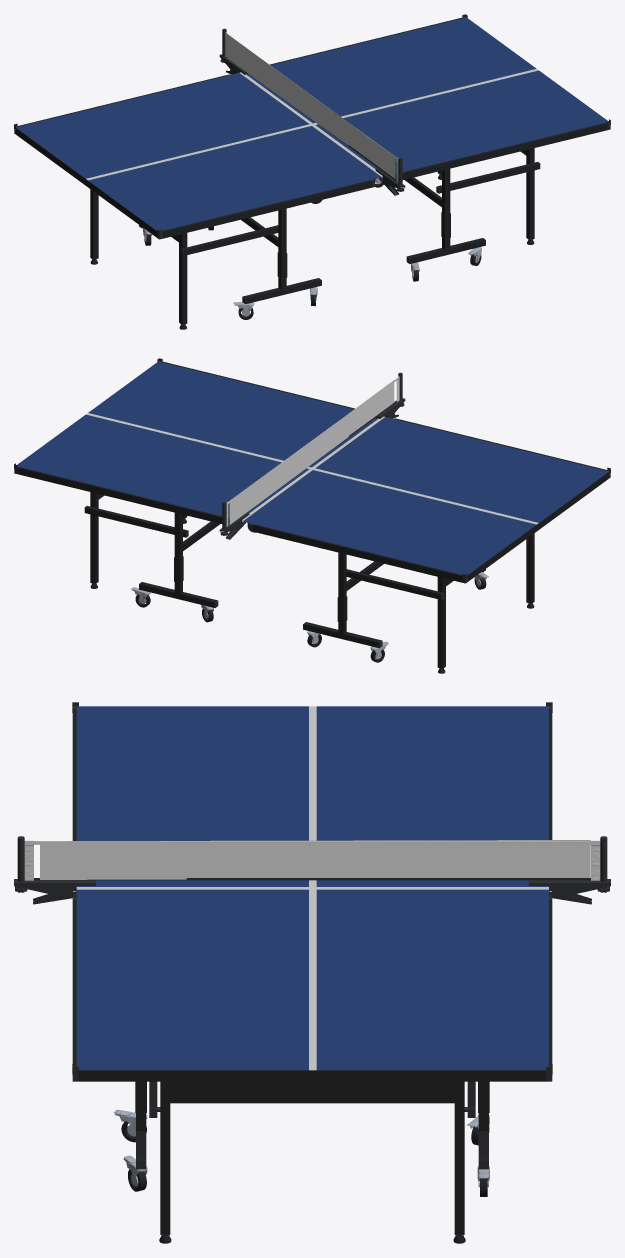
The model's file is Table Tennis Body .fbx.
3 views of the same model, one above another, from view 1: azimuth 30°, elevation 25°; view 2: azimuth 150°, elevation 25°; view 3: azimuth 270°, elevation 25° (orthographic). The views are drawn at different scales.
Visible parts, largest first — view 1: Board, Table Tennis Body; view 2: Board, Table Tennis Body; view 3: Board, Table Tennis Body.
Boxes of the visible parts, bbox=[...] form: Board: bbox=[16, 17, 607, 230]; Table Tennis Body: bbox=[14, 14, 610, 329]; Board: bbox=[17, 361, 608, 574]; Table Tennis Body: bbox=[14, 358, 610, 673]; Board: bbox=[76, 706, 548, 1070]; Table Tennis Body: bbox=[14, 702, 610, 1243].
Size of the model in its own units: 274 by 92.35 by 190.
